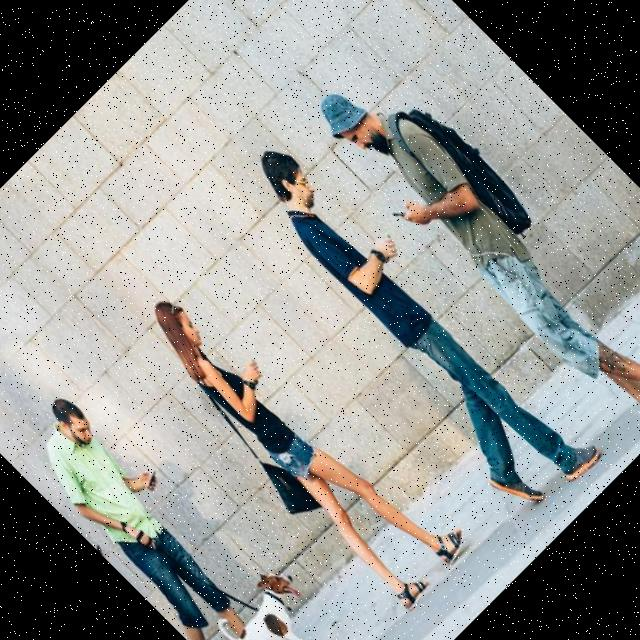Person: (212, 131, 608, 527), (297, 45, 640, 457), (119, 265, 476, 622), (0, 382, 330, 640)
